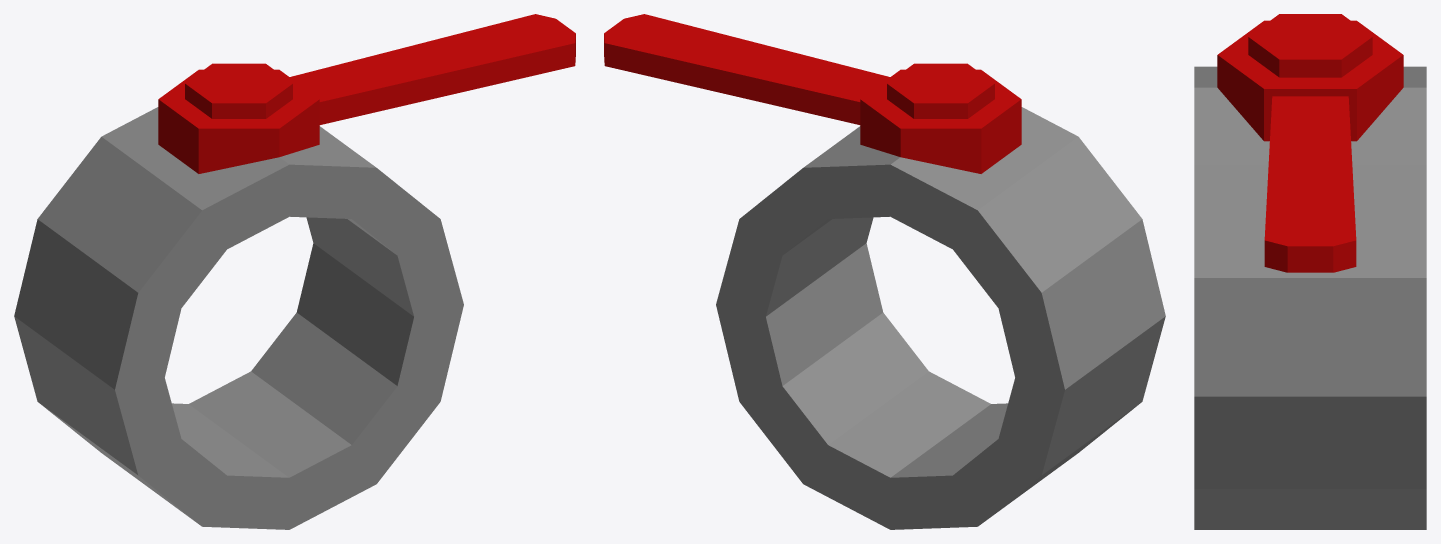
Rendered from Prop_Industrial_Pipe_Valve_01.FBX.
3 renders of one model, left to right at view 1: azimuth 30°, elevation 25°; view 2: azimuth 150°, elevation 25°; view 3: azimuth 270°, elevation 25°, orthographic. The views are drawn at different scales.
Parts seen in each view (by area): view 1: Prop_Industrial_Pipe_Valve_01; view 2: Prop_Industrial_Pipe_Valve_01; view 3: Prop_Industrial_Pipe_Valve_01.
Boxes of the visible parts, x1,y1,x2,y2 form: Prop_Industrial_Pipe_Valve_01: (14,14,575,529); Prop_Industrial_Pipe_Valve_01: (604,14,1165,529); Prop_Industrial_Pipe_Valve_01: (1194,14,1426,529).
Bounding box in the file's own units: 603 × 471 × 210.
